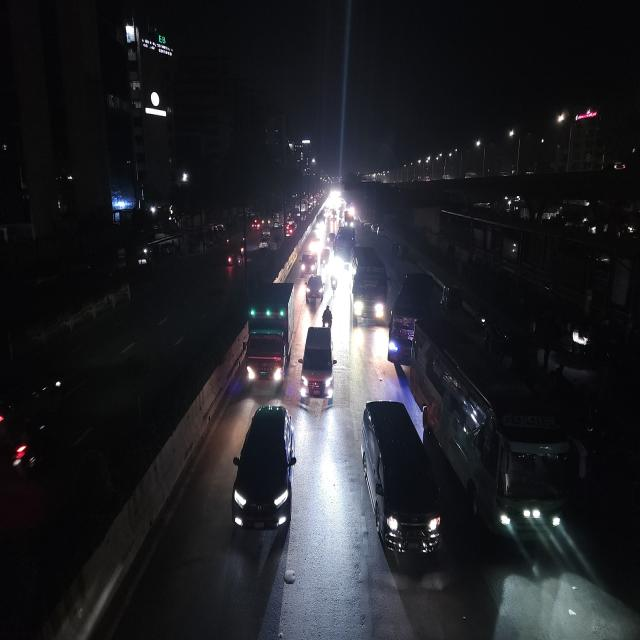bus: (411, 317, 578, 540), (387, 270, 437, 374), (348, 242, 389, 330), (334, 225, 354, 272)
car: (360, 396, 444, 574), (231, 401, 297, 544), (299, 324, 336, 409), (303, 271, 325, 308), (258, 235, 270, 252)
cng: (319, 246, 330, 271)
motorcycle: (329, 271, 339, 295), (227, 252, 233, 268)
truck: (242, 278, 297, 394), (298, 250, 318, 277)
